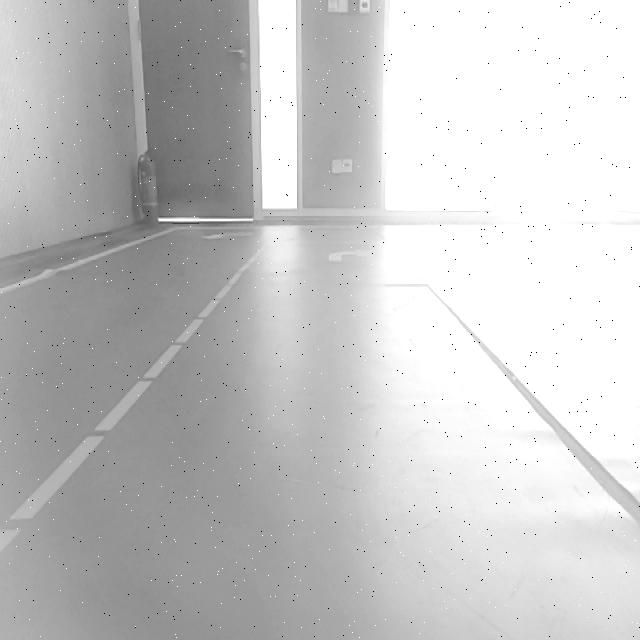left_lane: (0, 245, 263, 558)
right_lane: (433, 274, 640, 474)
